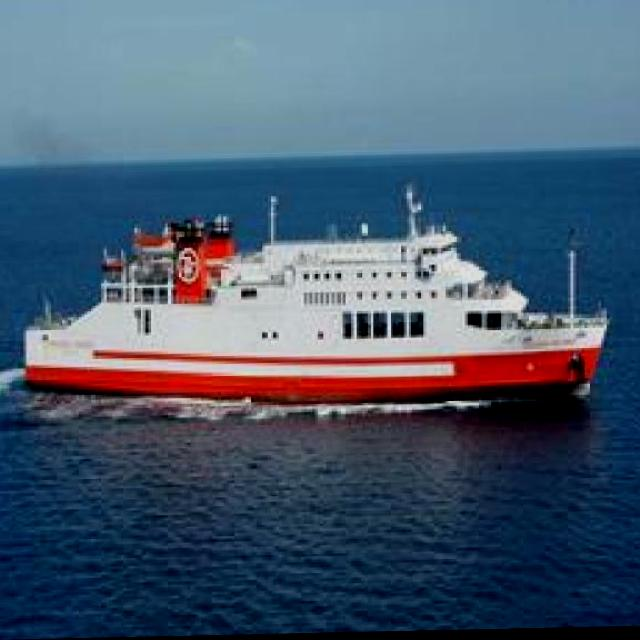ship2: (22, 178, 609, 408)
